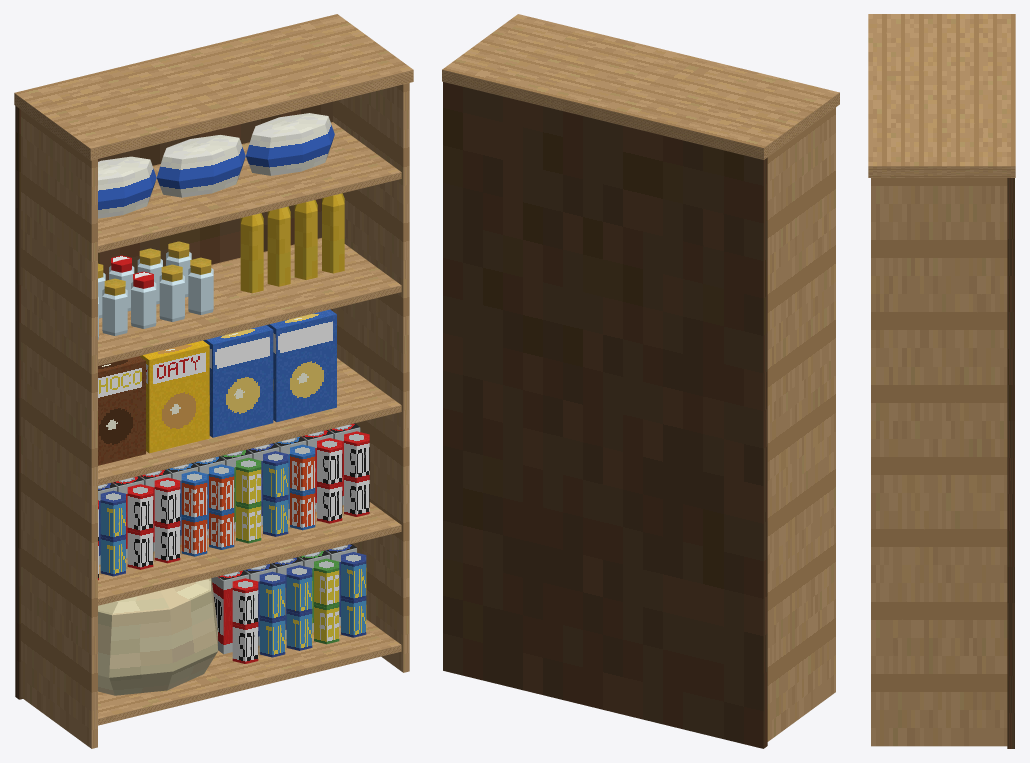
File: PantryShelf_Normal.fbx
The picture shows the model from 3 angles, left to right: view 1: azimuth 30°, elevation 25°; view 2: azimuth 150°, elevation 25°; view 3: azimuth 270°, elevation 25°; orthographic projection. The views are drawn at different scales.
Parts seen in each view (by area): view 1: PantryShelf.001; view 2: PantryShelf.001; view 3: PantryShelf.001.
Part boxes in pixels (left/top/right/bottom): PantryShelf.001: left=14, top=14, right=413, bottom=748; PantryShelf.001: left=442, top=14, right=839, bottom=748; PantryShelf.001: left=868, top=14, right=1015, bottom=748.
Size of the model in its own units: 102 by 181 by 41.6.
